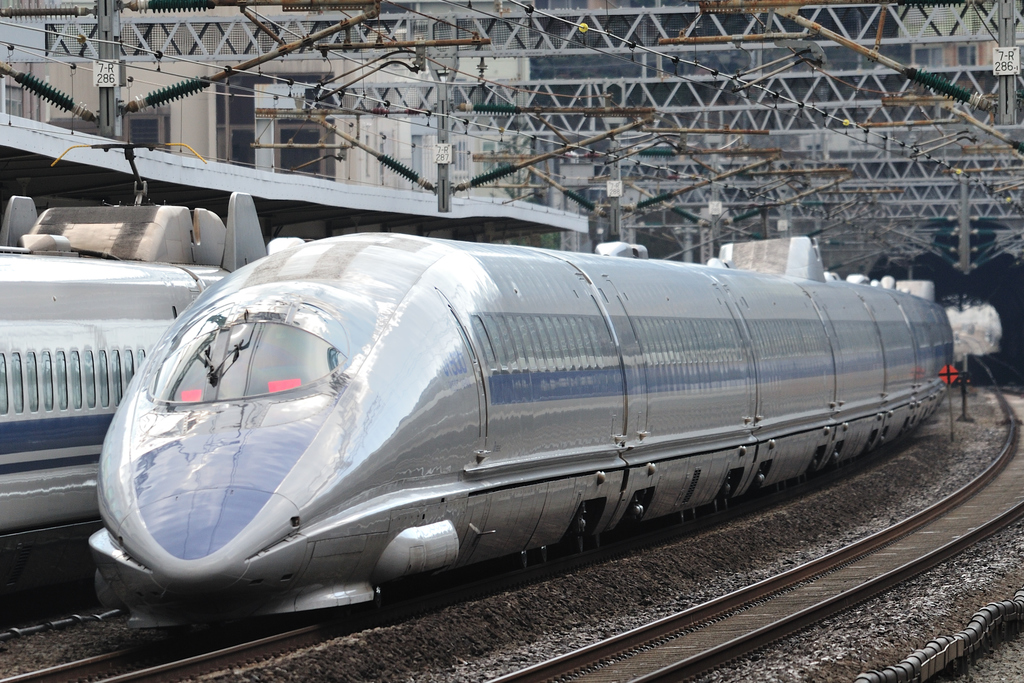train: (81, 230, 960, 636)
